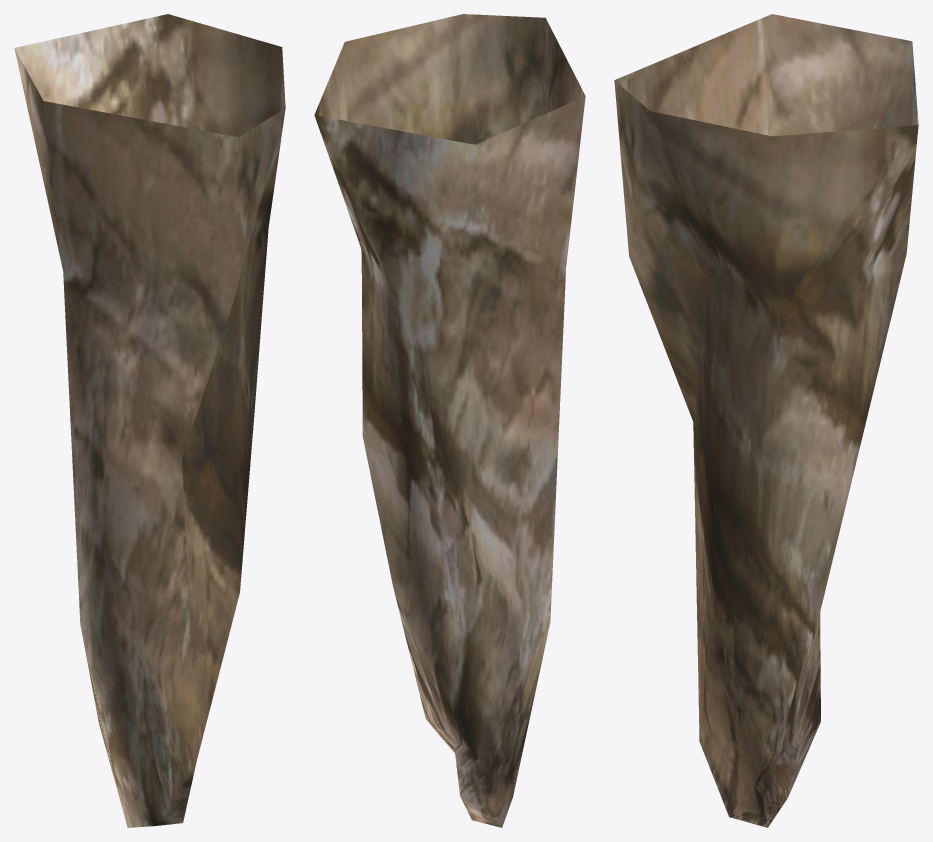
Rendered from thm_tato_cave_stalactite_lrg_l1.fbx.
3 renders of one model, left to right at view 1: azimuth 30°, elevation 25°; view 2: azimuth 150°, elevation 25°; view 3: azimuth 270°, elevation 25°, orthographic.
Visible parts, largest first — view 1: mesh_node; view 2: mesh_node; view 3: mesh_node.
Part boxes in pixels (left/top/right/bottom): mesh_node: left=14, top=14, right=285, bottom=827; mesh_node: left=314, top=14, right=585, bottom=827; mesh_node: left=614, top=14, right=918, bottom=827.
Bounding box in the file's own units: 2.27 × 6.79 × 2.47.
Materials: 1 (1 with a texture image).
